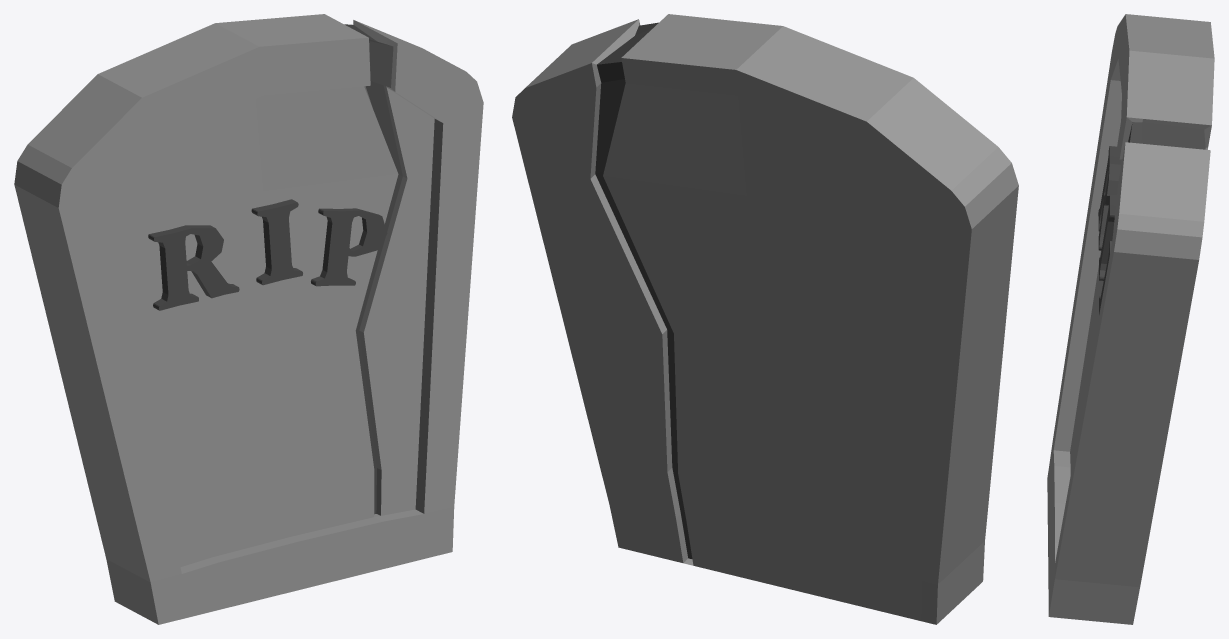
Rendered from Tombstone_2.fbx.
The picture shows the model from 3 angles, left to right: view 1: azimuth 30°, elevation 25°; view 2: azimuth 150°, elevation 25°; view 3: azimuth 270°, elevation 25°; orthographic projection. The views are drawn at different scales.
Visible parts, largest first — view 1: Tombstone_2; view 2: Tombstone_2; view 3: Tombstone_2.
Part boxes in pixels (x1,y1,x2,y2): Tombstone_2: (14,14,483,624); Tombstone_2: (512,14,1018,624); Tombstone_2: (1047,14,1214,624).
Bounding box in the file's own units: 154 × 53.93 × 179.
